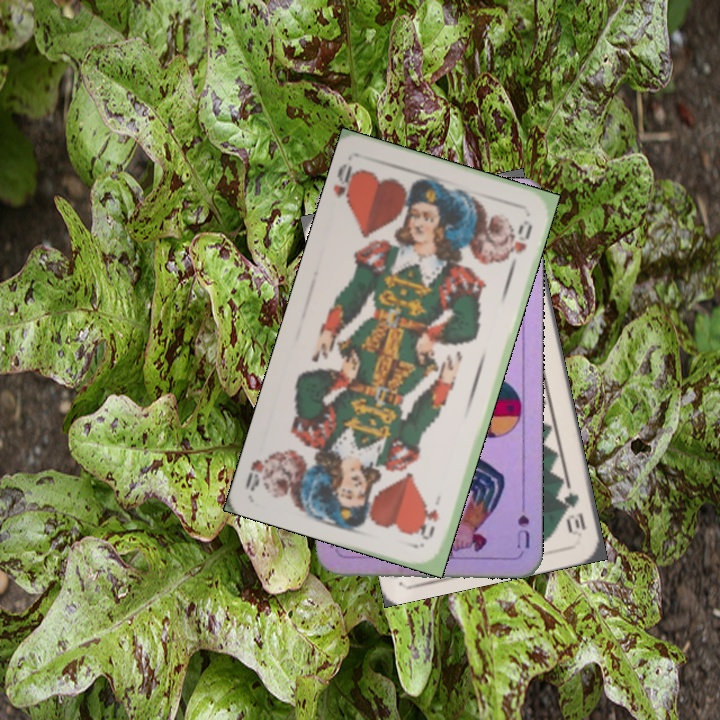G10: (559, 488, 589, 535)
HO: (330, 160, 365, 214), (417, 505, 442, 543)
SU: (513, 493, 532, 551)
